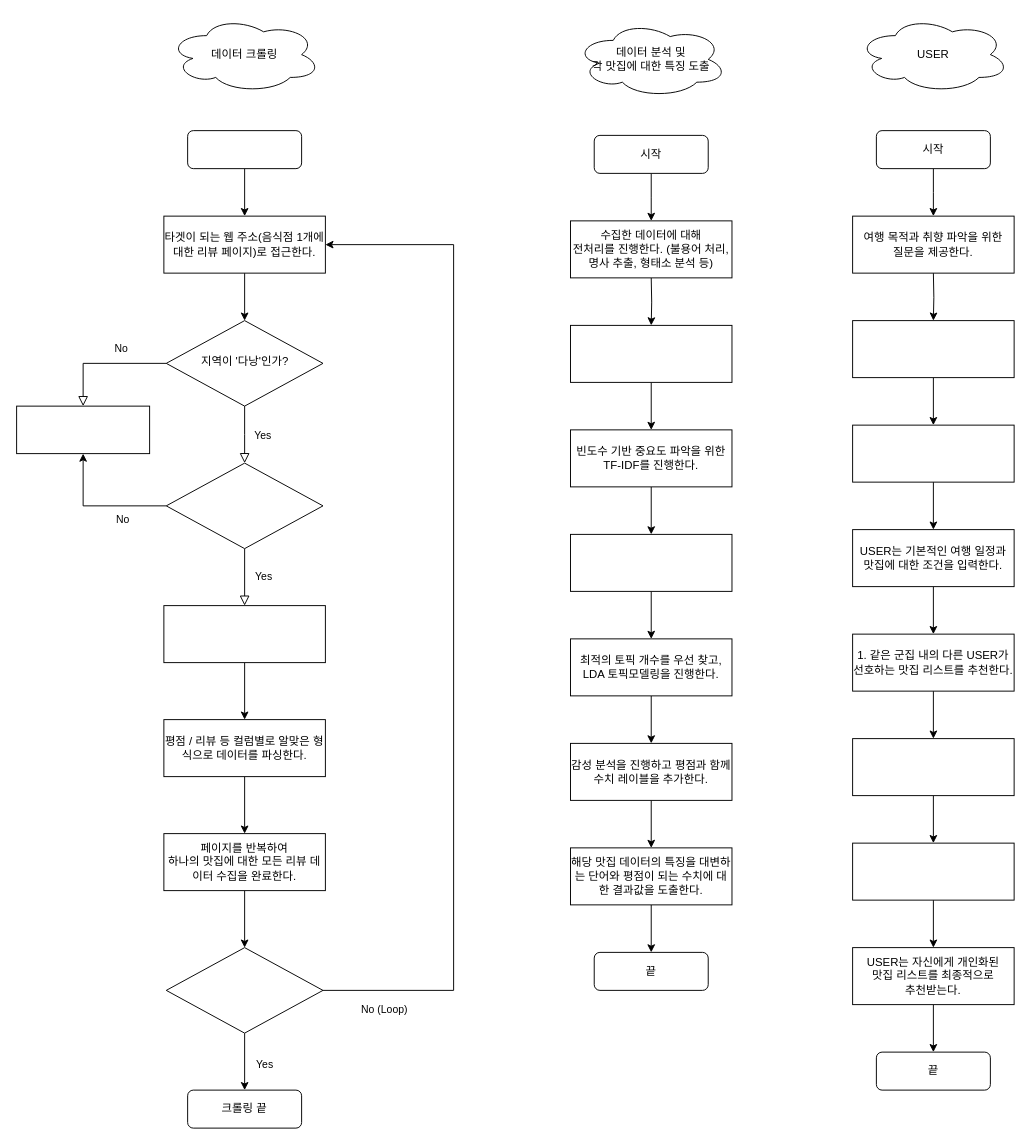
This 1031x1145 diagram has some shape labels left out. Each missing label, with the centre of its shape:
"2. 질문에 대한 답을 바탕으로 군집화된 맛집들을 관련지어 맛집 리스트를 추천한다." goes at (x=933, y=767).
"N(기준점)개의 맛집 데이터 수집을 완료했는가?" goes at (x=244, y=990).
"N개의 맛집 리스트중 마음에 드는 M개의 맛집을 선택한다." goes at (x=933, y=453).
"USER는 추천된 리스트에 대해 추가적인 조건을 검색한다." goes at (x=933, y=871).
"단어를 벡터화하기 위한 W2V을 진행한다." goes at (x=651, y=562).
"답에 대한 내용을 분석하여 USER를 분류한다." goes at (x=933, y=349).
"리뷰 개수가 N(기준점)개를 넘는가?" goes at (x=244, y=505).
"명사 데이터를 추출한다." goes at (x=651, y=353).
"웹 드라이버를 사용하여 파싱할 수 있는 상태로 맞추어준다." goes at (x=244, y=634).
"크롤링 시작" goes at (x=244, y=149).
"타겟이 되는 다음 웹 주소로 접근한다." goes at (x=83, y=429).
